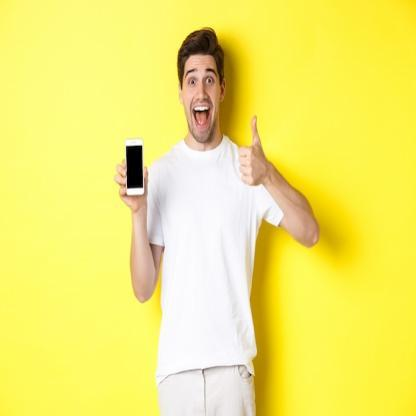thumb_up: (235, 108, 268, 192)
